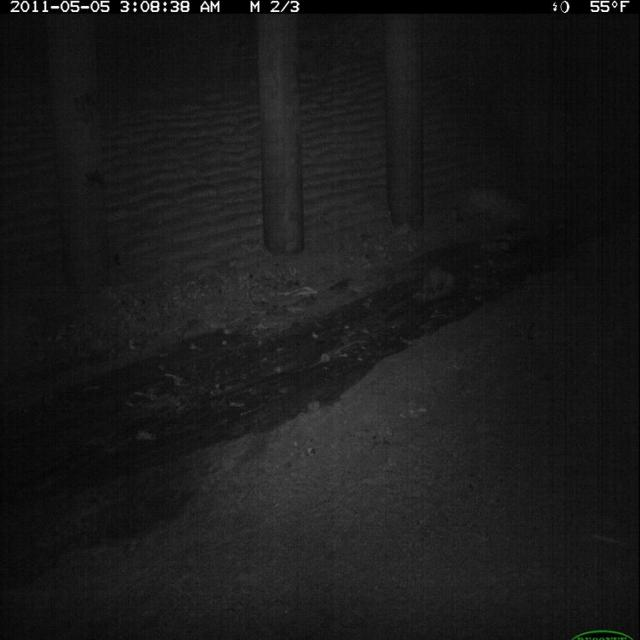opossum: (419, 266, 457, 295)
